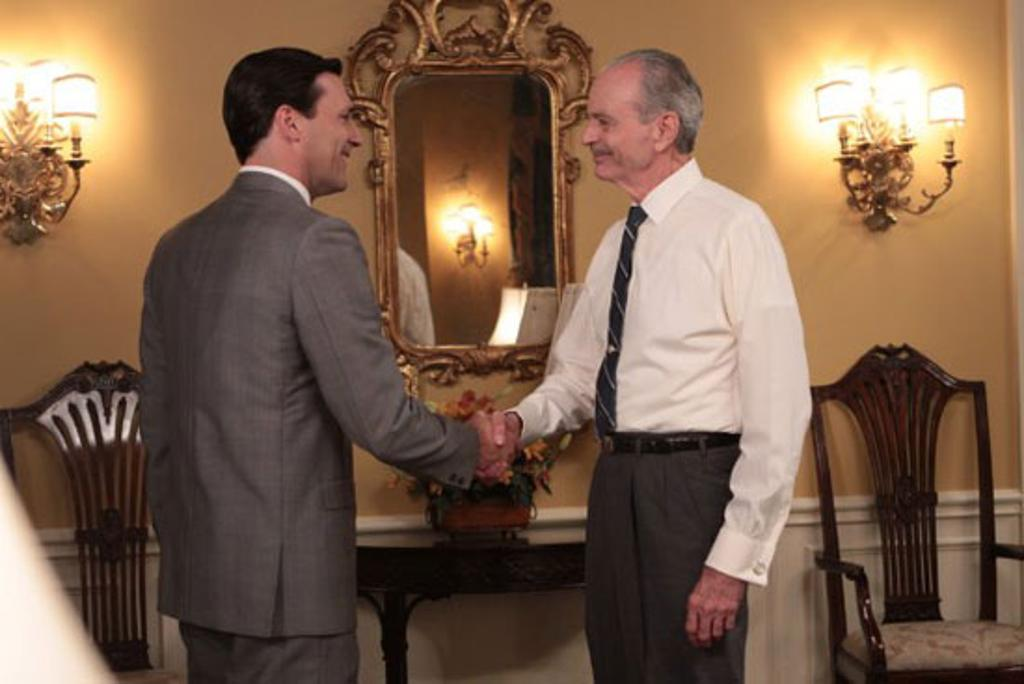face: (584, 62, 656, 180), (300, 66, 364, 192)
